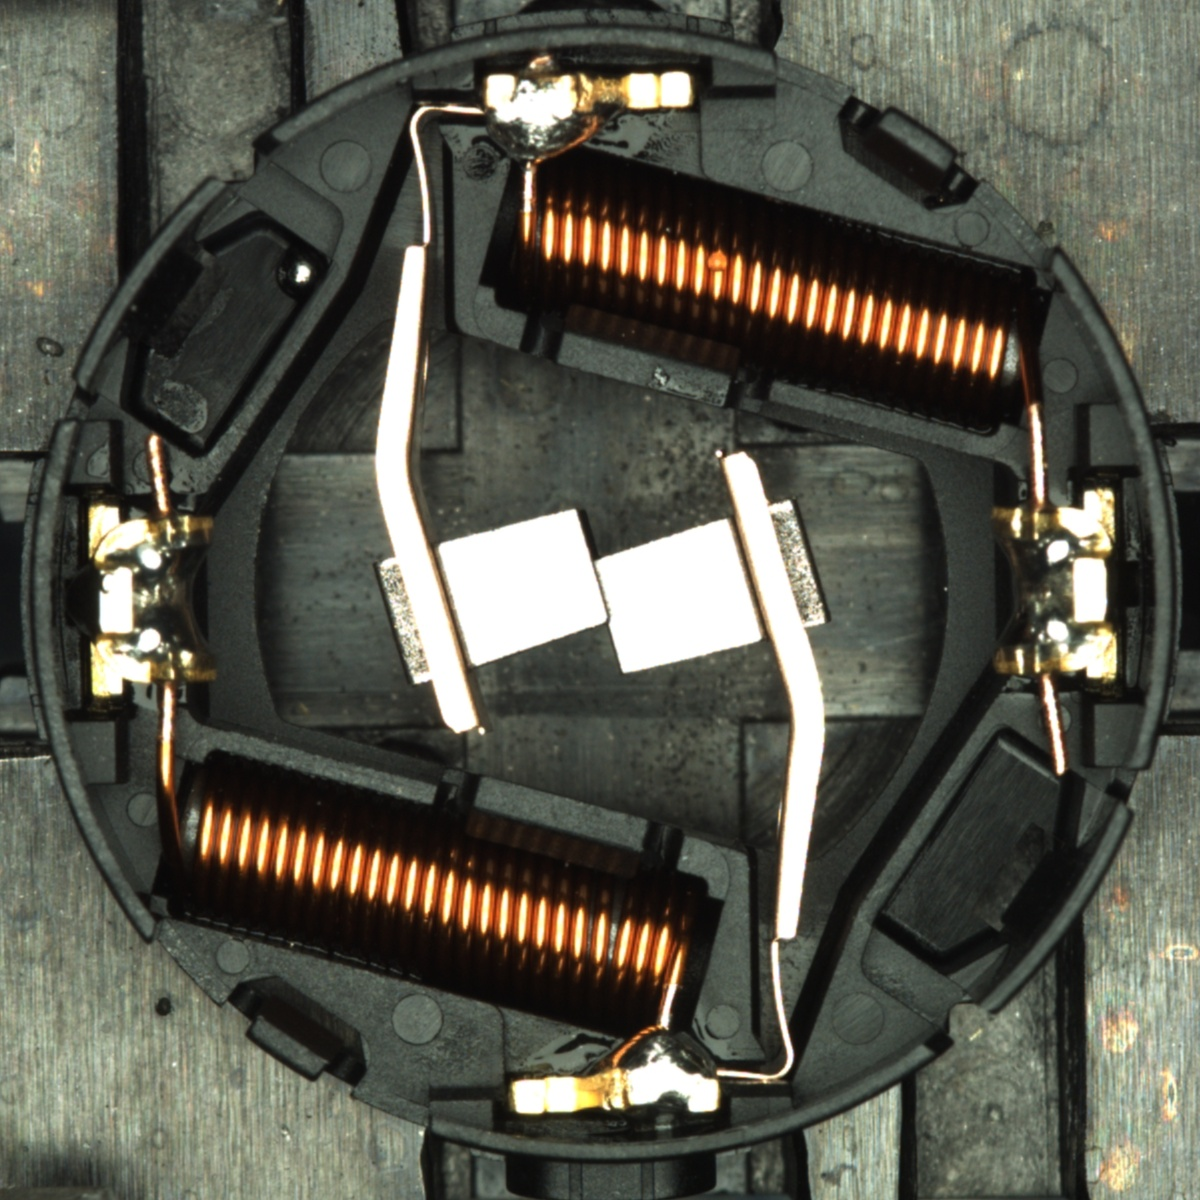1: (713, 928, 942, 1153), (254, 31, 483, 255)
2: (254, 928, 483, 1153), (713, 31, 942, 255)
3: (25, 255, 254, 479), (942, 704, 1171, 928)
4: (713, 704, 942, 928)
5: (483, 143, 713, 367), (483, 816, 713, 1040)
6: (713, 255, 942, 479), (254, 704, 483, 928)
7: (942, 255, 1171, 479), (25, 704, 254, 928)
cacbon: (400, 497, 796, 686)
chau_dien: (81, 498, 221, 700), (983, 488, 1123, 686)
hat_chi: (274, 242, 331, 303)
tay_choi: (482, 69, 697, 167), (509, 1021, 722, 1118)
thanh_de: (955, 788, 1141, 1031), (59, 164, 245, 404)
